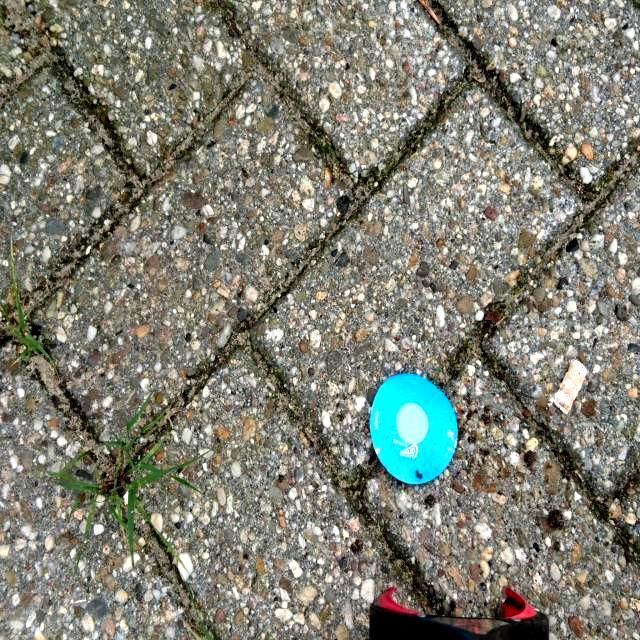Paper: (368, 370, 458, 486)
